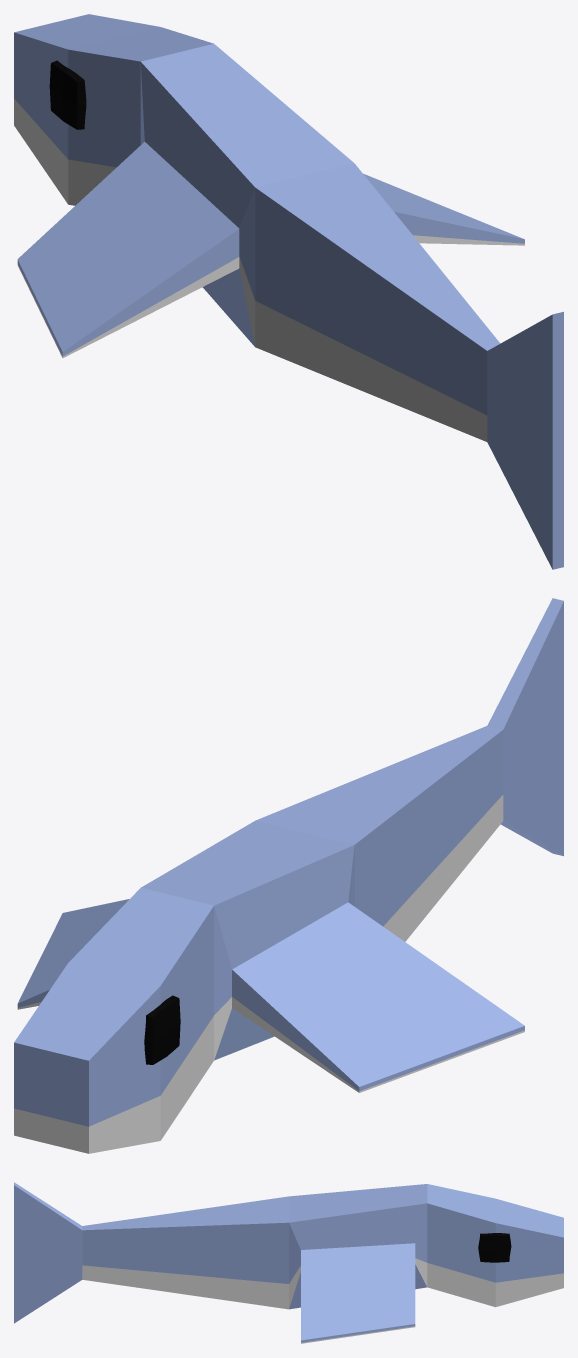
File: GAMEJAMPUFFER - Fish.fbx
3 views of the same model, one above another, from view 1: azimuth 30°, elevation 25°; view 2: azimuth 150°, elevation 25°; view 3: azimuth 270°, elevation 25° (orthographic). The views are drawn at different scales.
Parts seen in each view (by area): view 1: Fish; view 2: Fish; view 3: Fish.
Part boxes in pixels (x1,y1,x2,y2): Fish: (14, 14, 563, 569); Fish: (14, 598, 563, 1153); Fish: (14, 1182, 563, 1343).
Bounding box in the file's own units: 42.38 × 22.38 × 80.47.
